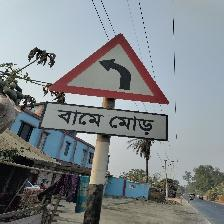Left-Turn: (44, 33, 171, 140)
